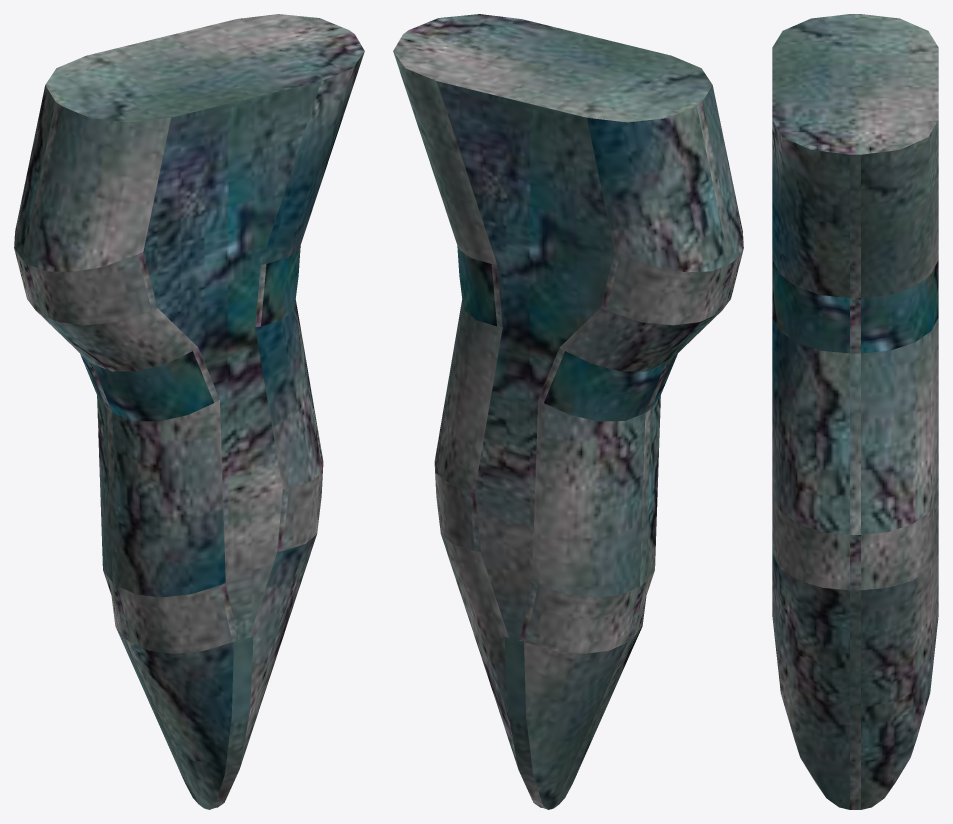
The model's file is stalactite.fbx.
3 views of the same model, side by side, from view 1: azimuth 30°, elevation 25°; view 2: azimuth 150°, elevation 25°; view 3: azimuth 270°, elevation 25° (orthographic).
Parts seen in each view (by area): view 1: Stalagtite; view 2: Stalagtite; view 3: Stalagtite.
Part boxes in pixels (x1,y1,x2,y2): Stalagtite: (14,14,364,809); Stalagtite: (393,14,743,809); Stalagtite: (772,14,938,809).
Bounding box in the file's own units: 3335 × 7200 × 1500.
